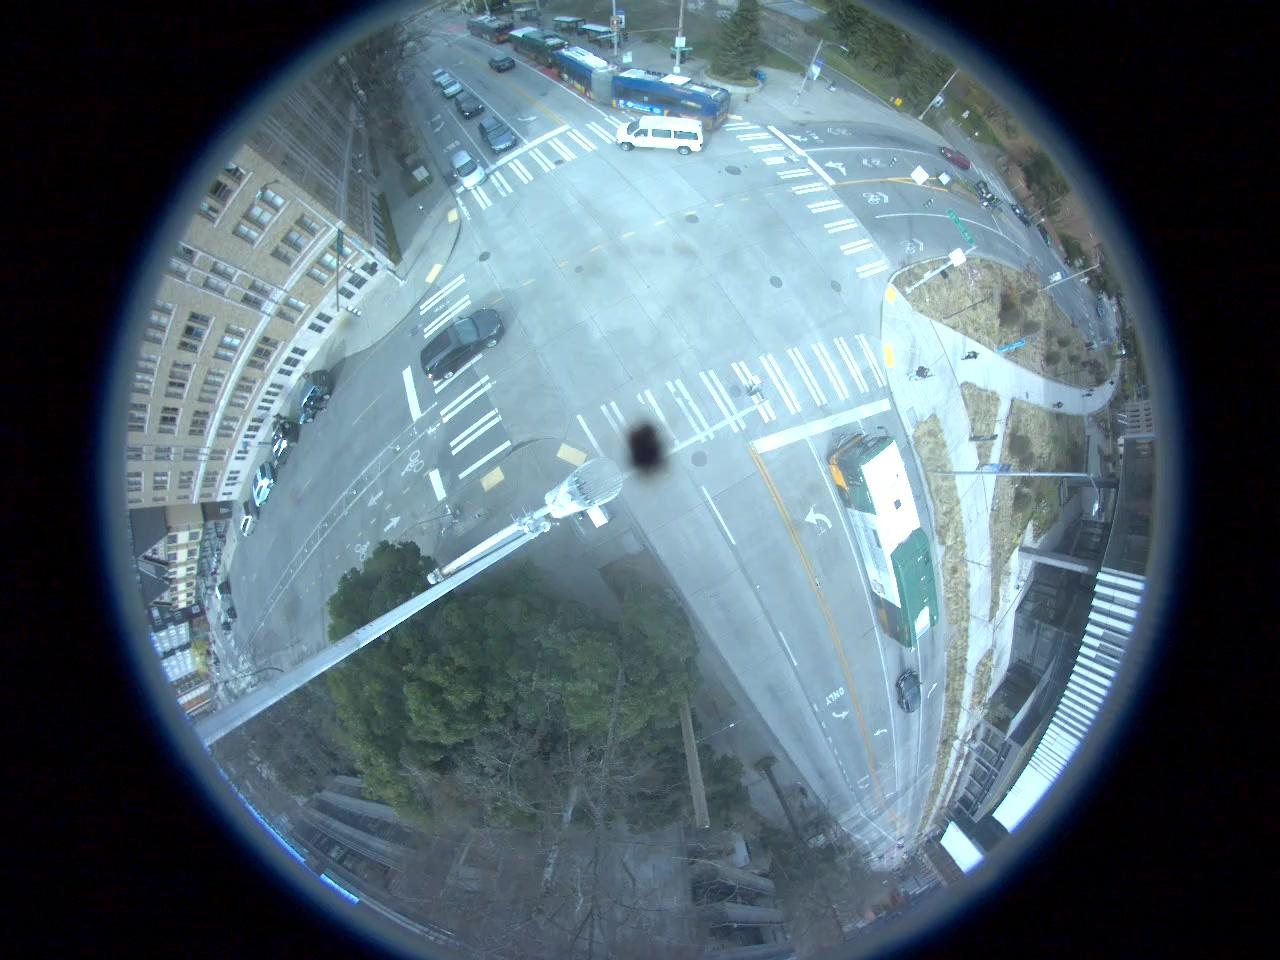bus: (829, 431, 940, 644), (554, 47, 732, 129), (510, 26, 573, 68), (466, 16, 512, 40)
car: (419, 312, 498, 375), (619, 118, 704, 154), (297, 372, 331, 424), (480, 116, 515, 156), (453, 149, 484, 191), (247, 464, 277, 507), (272, 425, 298, 469), (896, 671, 918, 715), (941, 142, 971, 170), (454, 92, 484, 120), (238, 502, 260, 540), (483, 53, 519, 73), (444, 75, 464, 97)
person: (906, 364, 936, 383), (958, 348, 984, 362)
